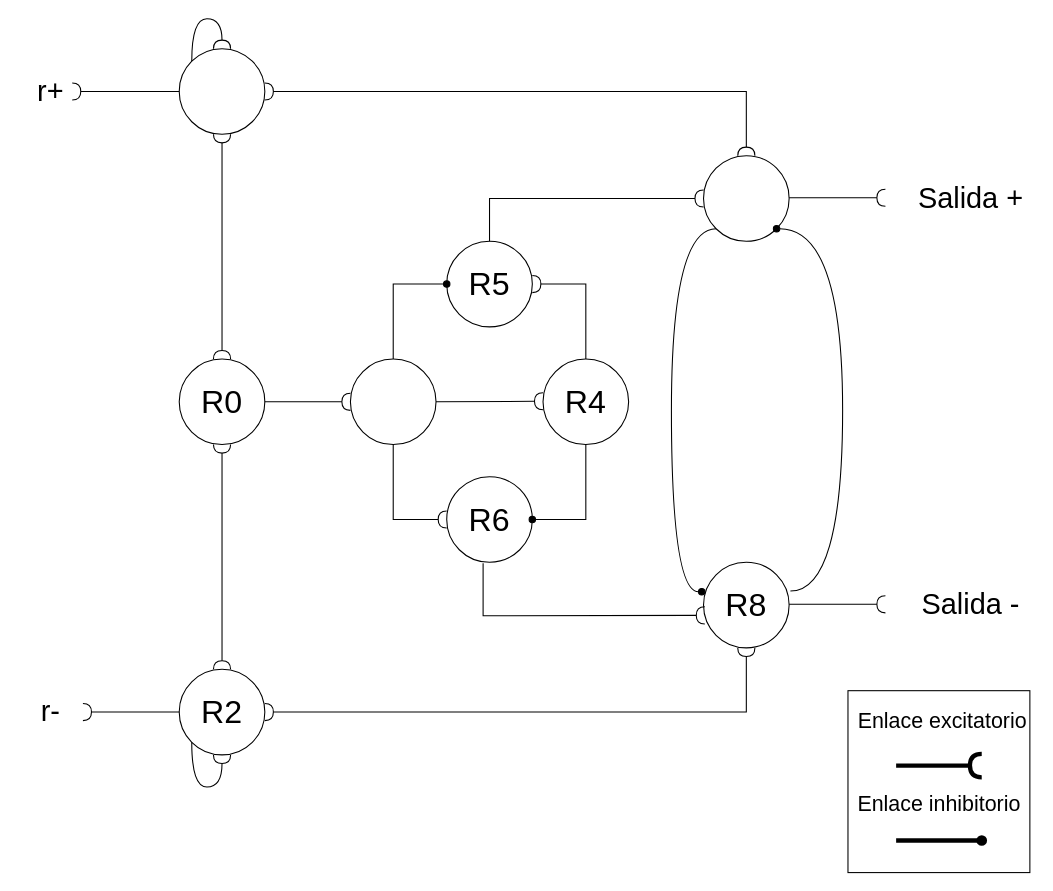
Some shapes in this 1053 by 891 pixel diagram are drawn without their labels. The shapes that lost their labels are listed below. From the top down, each one's centre as x and y in pixels, then its label:
At point 221,91: "R1".
At point 745,198: "R7".
At point 392,401: "R3".
